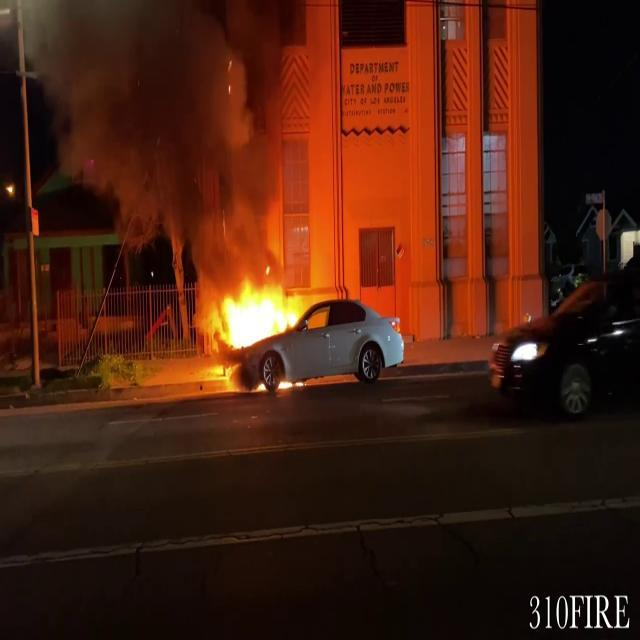Fire: (202, 266, 306, 388)
Smoke: (34, 0, 330, 249)
